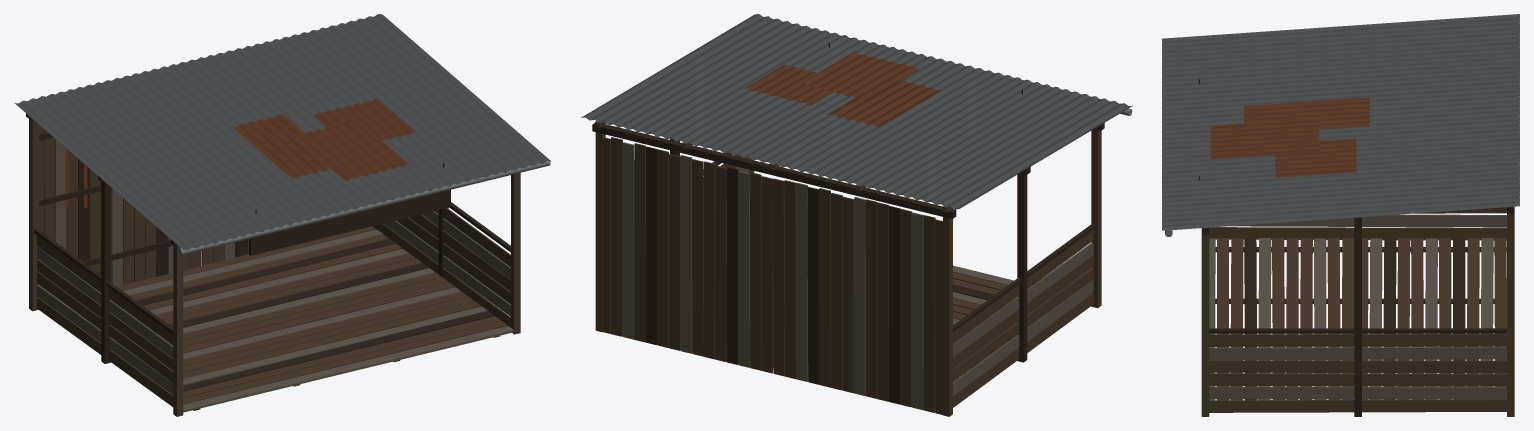
Rendered from stand-shell.glb.
3 renders of one model, left to right at view 1: azimuth 30°, elevation 25°; view 2: azimuth 150°, elevation 25°; view 3: azimuth 270°, elevation 25°, orthographic. The views are drawn at different scales.
Visible parts, largest first — view 1: roofTin, woodOld, woodGrey, woodNight, roofRust (×3), tin; view 2: woodOld, roofTin, woodGrey, woodNight, roofRust (×3); view 3: roofTin, woodOld, woodGrey, roofRust (×3), woodNight.
Boxes of the visible parts, x1=… form: roofTin: x1=14, y1=14, x2=551, y2=250; woodOld: x1=29, y1=118, x2=520, y2=416; woodGrey: x1=37, y1=139, x2=513, y2=412; woodNight: x1=26, y1=113, x2=510, y2=410; roofRust (×3): x1=232, y1=98, x2=415, y2=180; tin: x1=178, y1=161, x2=550, y2=255; woodOld: x1=595, y1=121, x2=1101, y2=416; roofTin: x1=581, y1=14, x2=1132, y2=209; woodGrey: x1=622, y1=142, x2=1093, y2=410; woodNight: x1=592, y1=123, x2=1104, y2=404; roofRust (×3): x1=744, y1=52, x2=942, y2=126; roofTin: x1=1162, y1=14, x2=1519, y2=230; woodOld: x1=1201, y1=207, x2=1514, y2=416; woodGrey: x1=1209, y1=214, x2=1506, y2=400; roofRust (×3): x1=1210, y1=97, x2=1369, y2=177; woodNight: x1=1201, y1=206, x2=1514, y2=416.
Size of the model in its own units: 5.9 by 3.17 by 4.69.
